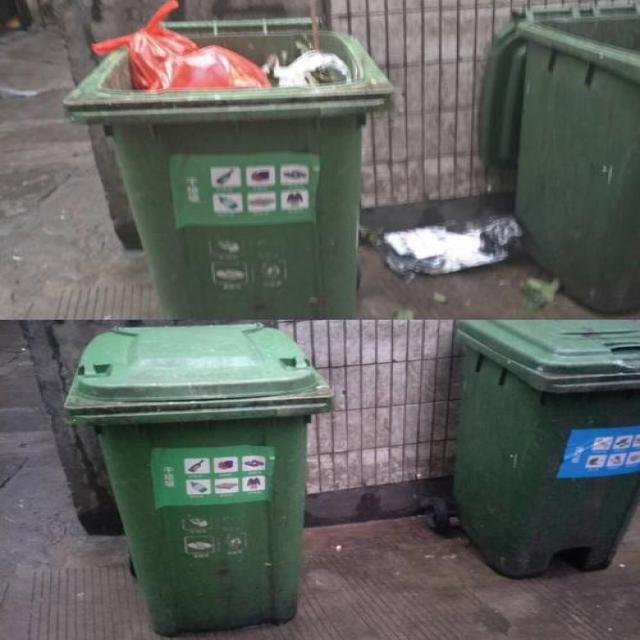garbage: (379, 211, 518, 276)
garbage_bin: (64, 322, 333, 634), (452, 319, 639, 577), (481, 7, 639, 312)
overflow: (66, 3, 390, 316)
